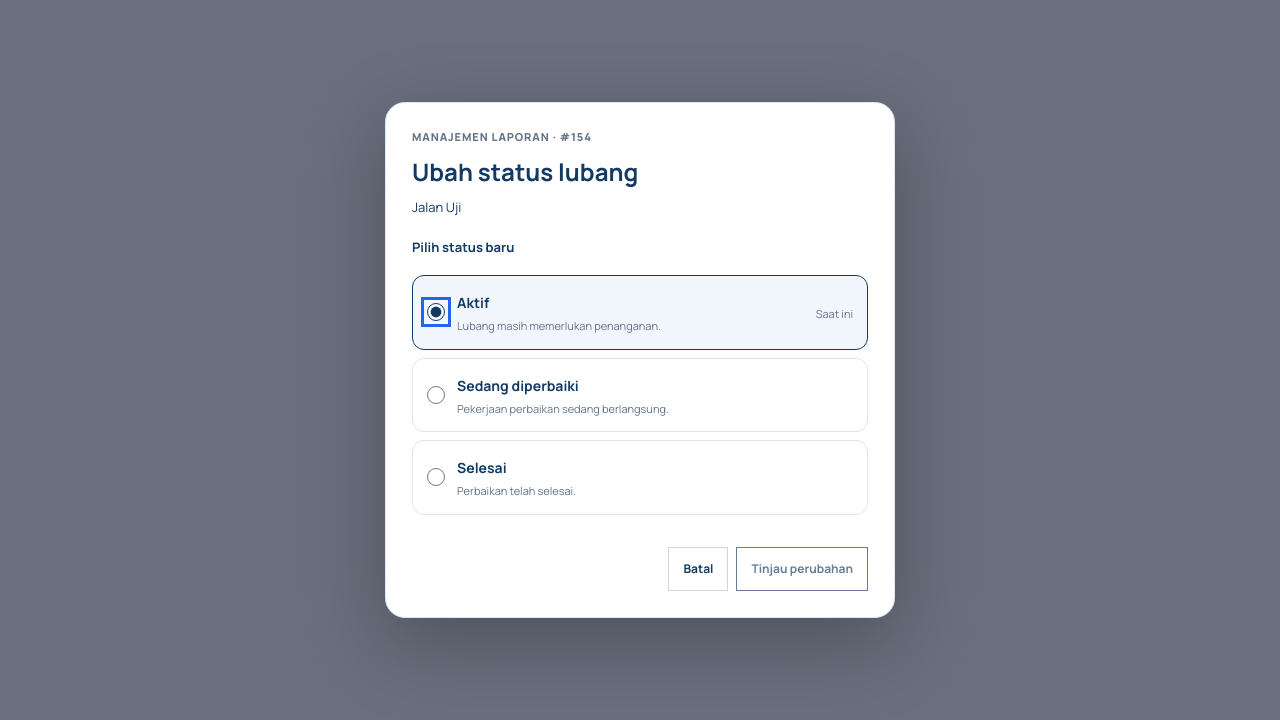
admin status confirmation › shows failed saves without a success notification
Click the radio button labelled "Selesai Perbaikan telah selesai.".
click(436, 478)  # box [427,468,445,486]
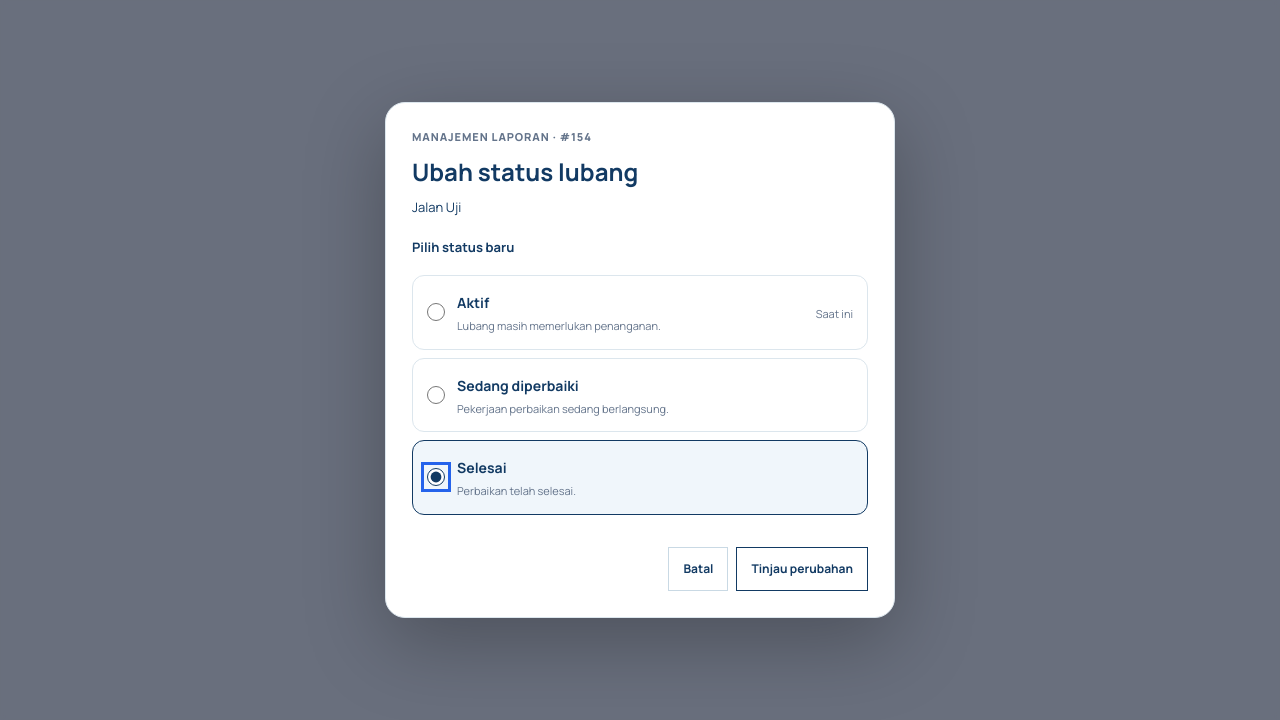
Click the button "Tinjau perubahan".
click(802, 569)  # box [736,547,868,591]
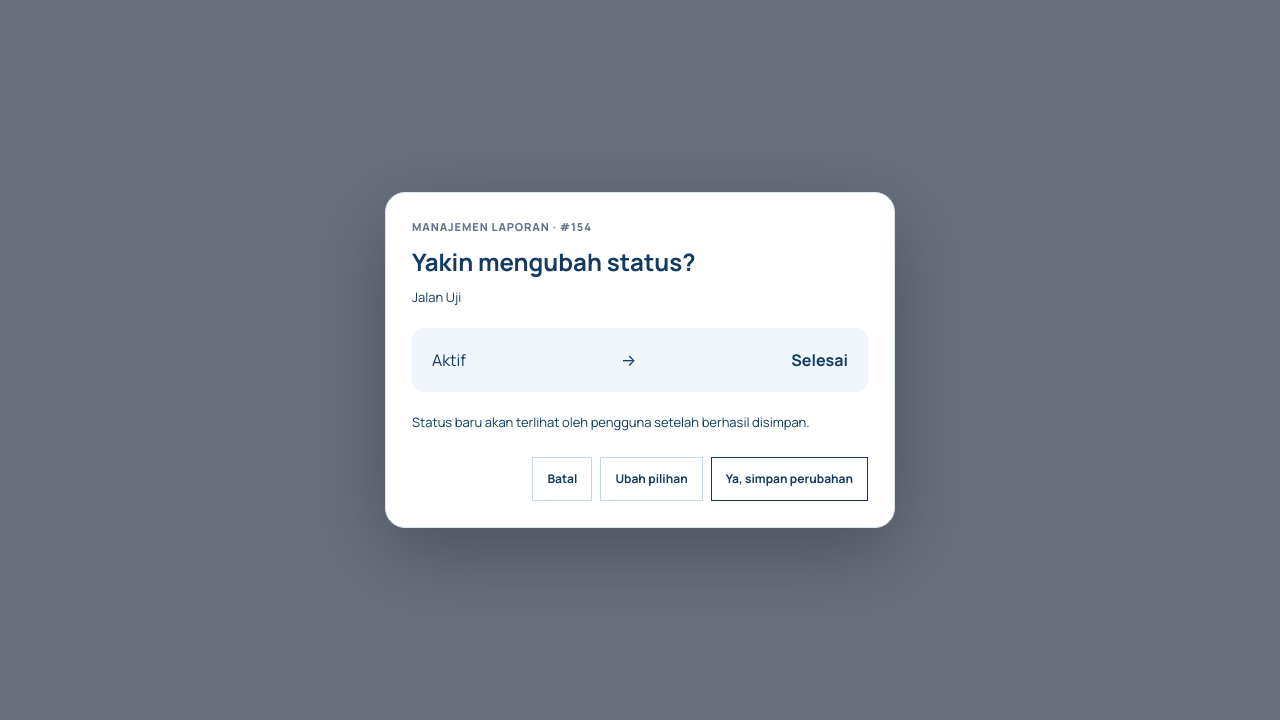
Click the button "Ya, simpan perubahan".
click(789, 479)  # box [711,457,868,501]
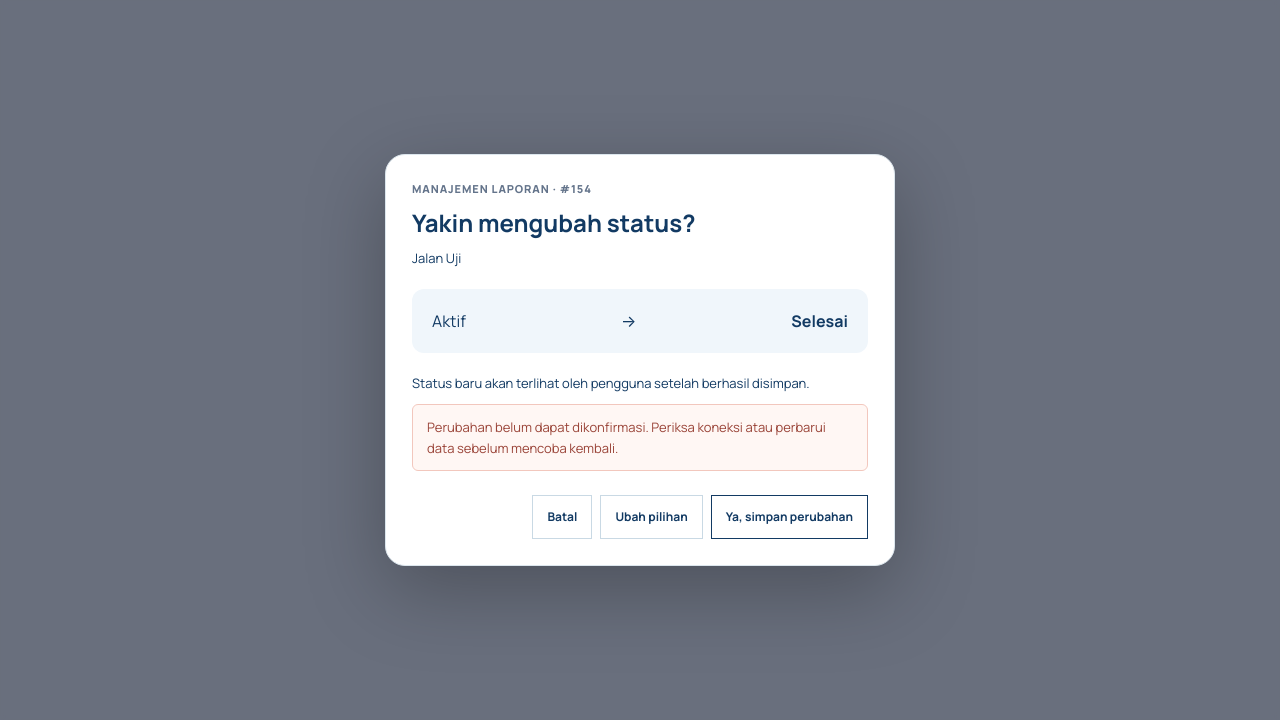
Check: the message shows "Perubahan belum dapat dikonfirmasi", box [427,418,826,457]
